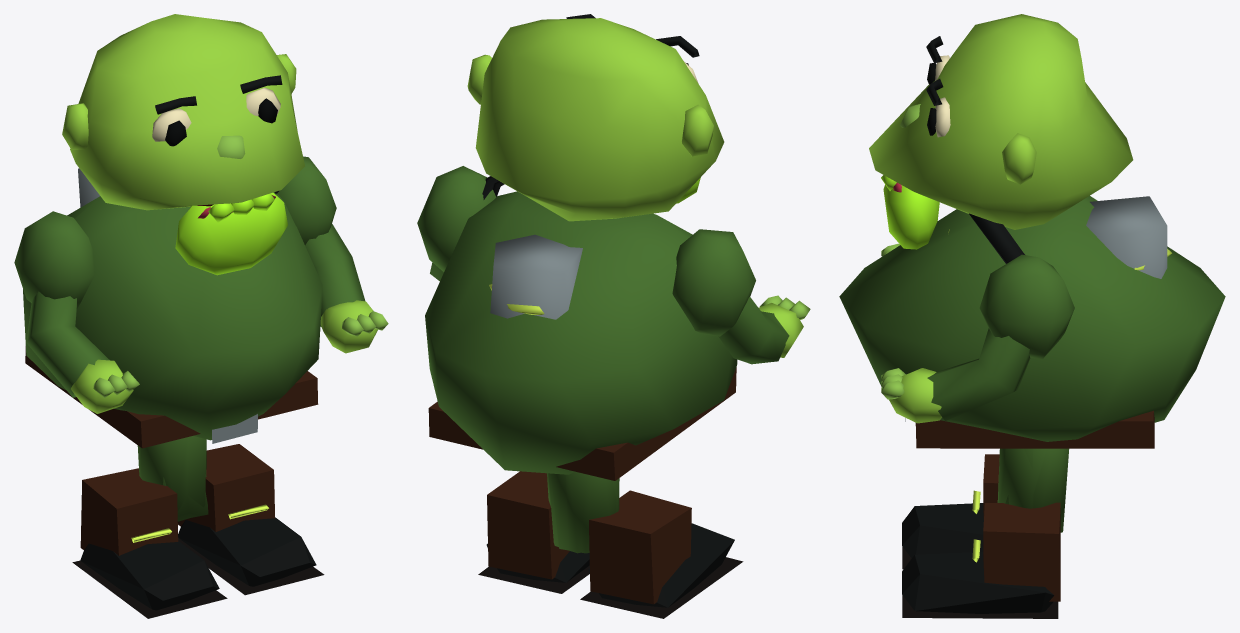
The model's file is spitter-lod.glb.
3 renders of one model, left to right at view 1: azimuth 30°, elevation 25°; view 2: azimuth 150°, elevation 25°; view 3: azimuth 270°, elevation 25°, orthographic. The views are drawn at different scales.
Visible parts, largest first — view 1: Body, Head, Arms, LegL, LegR; view 2: Body, Head, Arms, LegL, LegR; view 3: Body, Head, LegR, Arms, LegL.
Part boxes in pixels (x1,y1,x2,y2): Body: [23, 168, 322, 448]; Head: [62, 14, 304, 275]; Arms: [14, 156, 388, 413]; LegL: [72, 437, 227, 618]; LegR: [137, 436, 324, 595]; Body: [425, 176, 737, 480]; Head: [467, 14, 724, 221]; Arms: [417, 166, 810, 364]; LegL: [547, 471, 743, 618]; LegR: [478, 471, 616, 593]; Body: [839, 196, 1225, 448]; Head: [869, 14, 1133, 249]; LegR: [902, 448, 1069, 618]; Arms: [881, 243, 1074, 423]; LegL: [902, 448, 1062, 569].
Size of the model in its own units: 0.7267 by 1.16 by 0.7394.
1 material, 1 textured.
